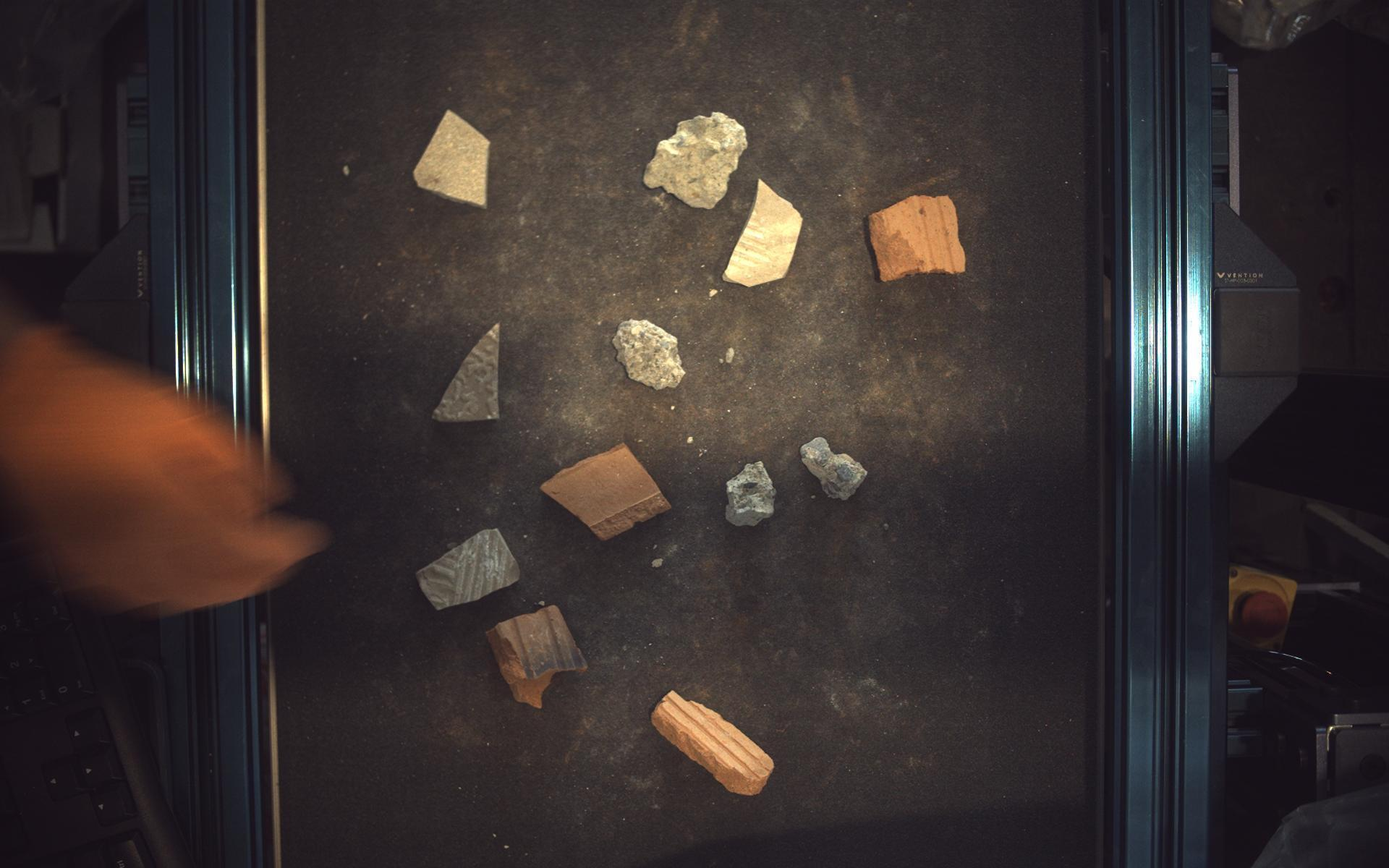brick: (652, 692, 775, 797), (541, 443, 672, 541), (486, 606, 587, 709), (872, 195, 967, 281)
concrete: (645, 111, 749, 208), (613, 319, 687, 390), (802, 437, 869, 501), (726, 461, 776, 527)
tile: (724, 179, 804, 286), (416, 529, 520, 610), (414, 109, 490, 206), (433, 323, 501, 422)
